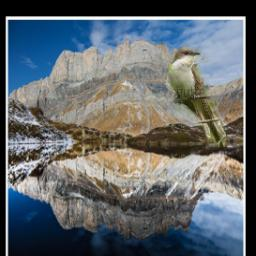Cuckoo: (170, 48, 227, 148)
